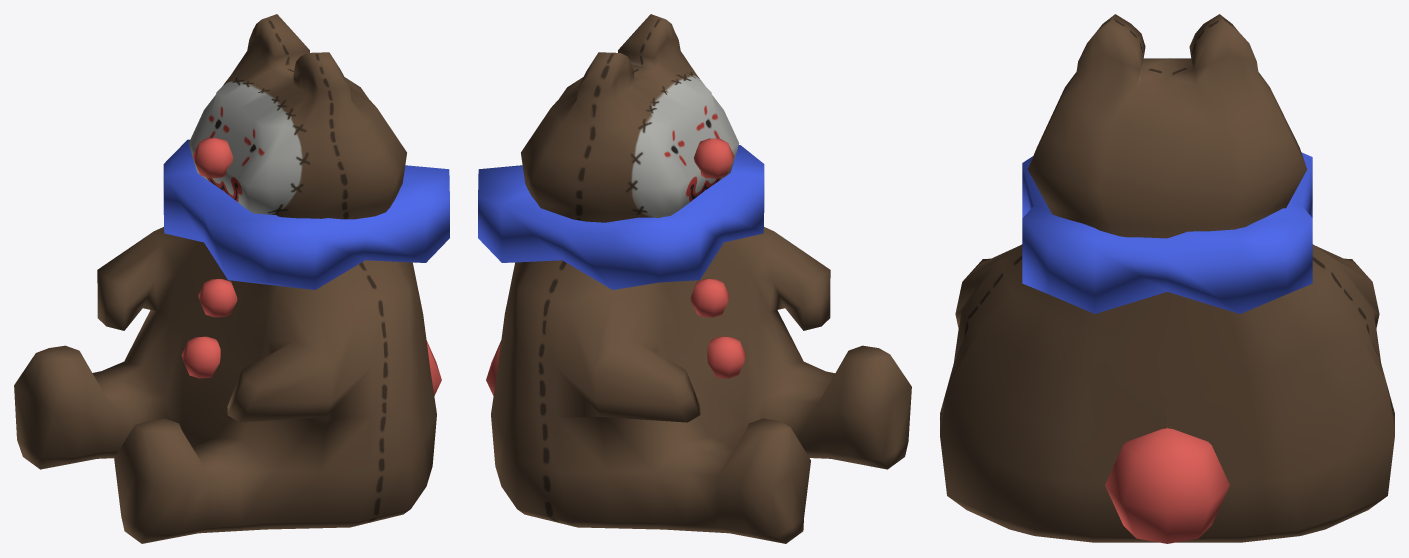
The model's file is nalle02.fbx.
3 renders of one model, left to right at view 1: azimuth 30°, elevation 25°; view 2: azimuth 150°, elevation 25°; view 3: azimuth 270°, elevation 25°, orthographic. The views are drawn at different scales.
Visible parts, largest first — view 1: Cube.001, Cube.002, Sphere; view 2: Cube.001, Cube.002, Sphere; view 3: Cube.001, Cube.002, Sphere.
Boxes of the visible parts, left/top/right/bottom form: Cube.001: left=14, top=14, right=436, bottom=543; Cube.002: left=163, top=139, right=449, bottom=289; Sphere: left=181, top=138, right=441, bottom=395; Cube.001: left=491, top=14, right=911, bottom=543; Cube.002: left=478, top=145, right=764, bottom=289; Sphere: left=486, top=138, right=746, bottom=395; Cube.001: left=940, top=14, right=1394, bottom=542; Cube.002: left=1022, top=152, right=1312, bottom=313; Sphere: left=1105, top=426, right=1229, bottom=543.
Bounding box in the file's own units: 178 × 202 × 174.
3 materials, 1 textured.
